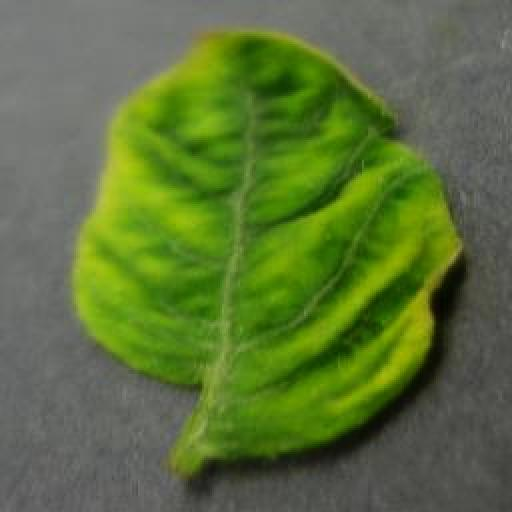disease_tomato: (71, 30, 464, 460)
